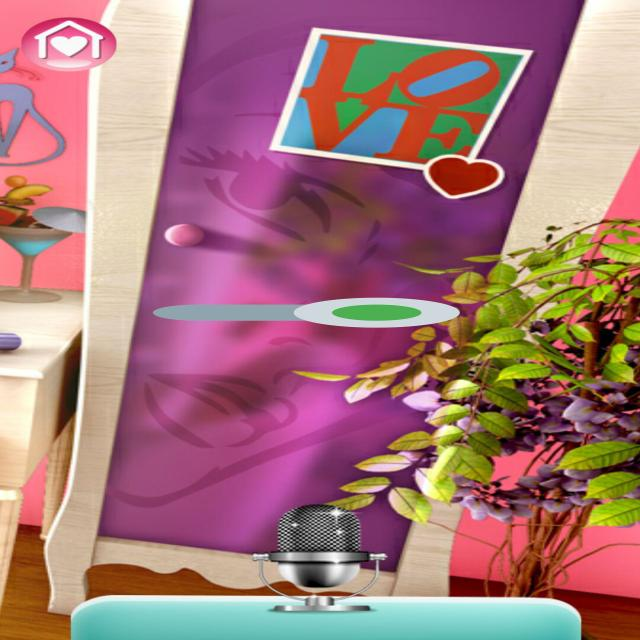social proof: (153, 285, 460, 340)
